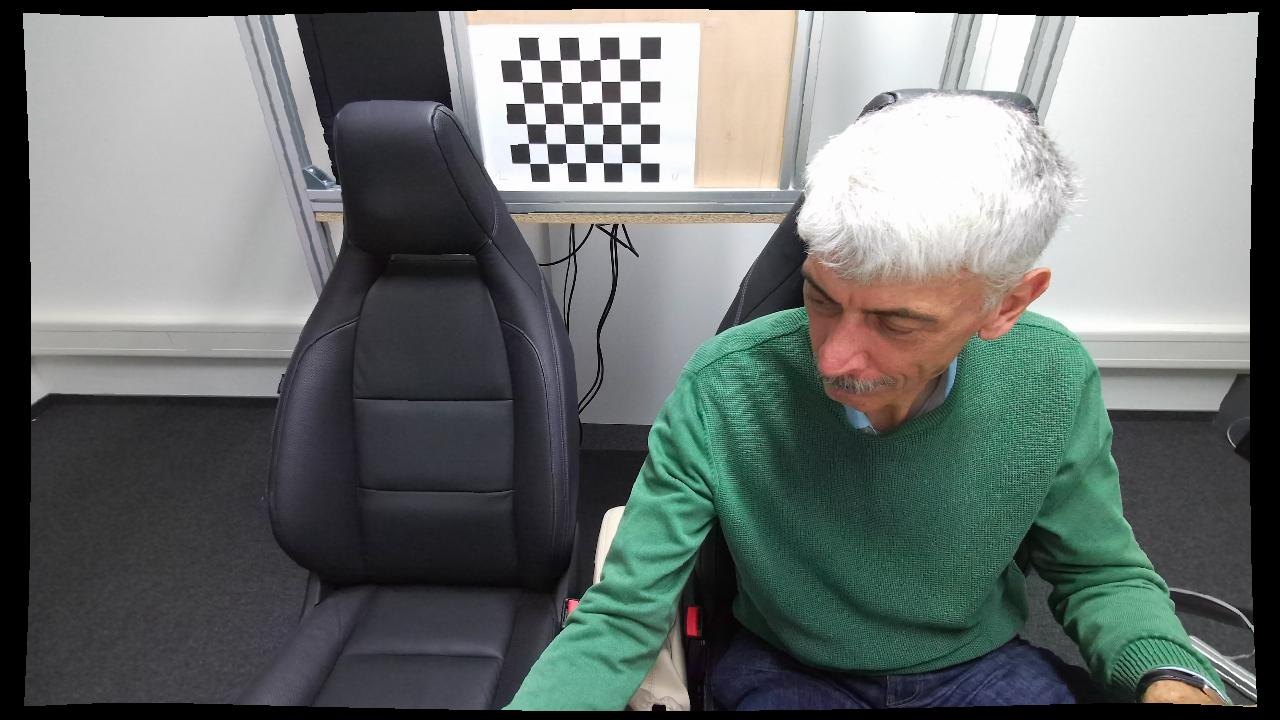Distracted: (500, 91, 1123, 711)
